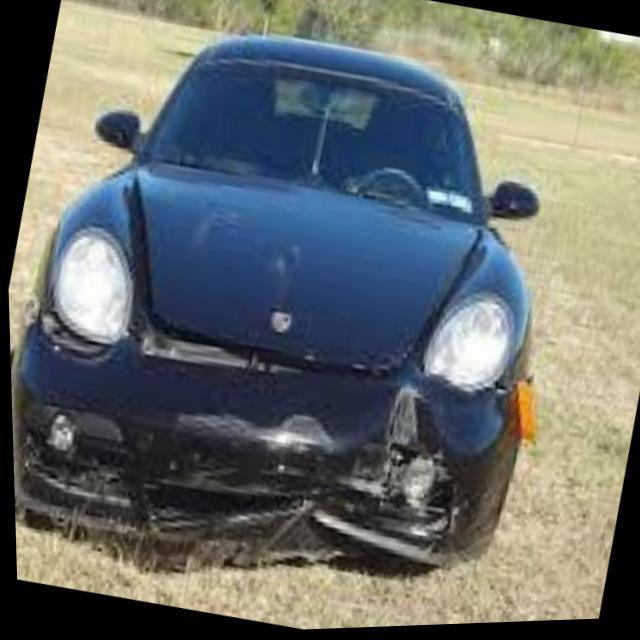dislocated part: (10, 172, 531, 567)
